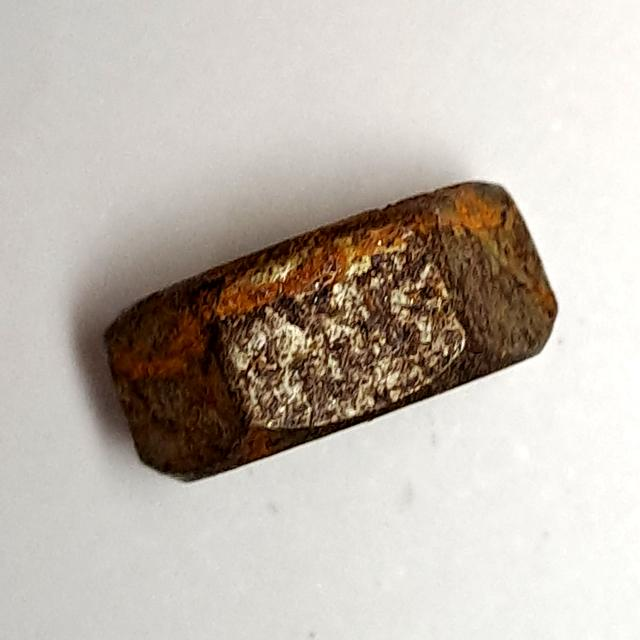Side_Rust: (87, 160, 578, 508)
